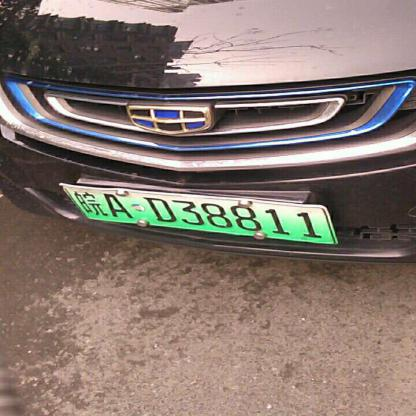lp: (60, 186, 336, 242)
